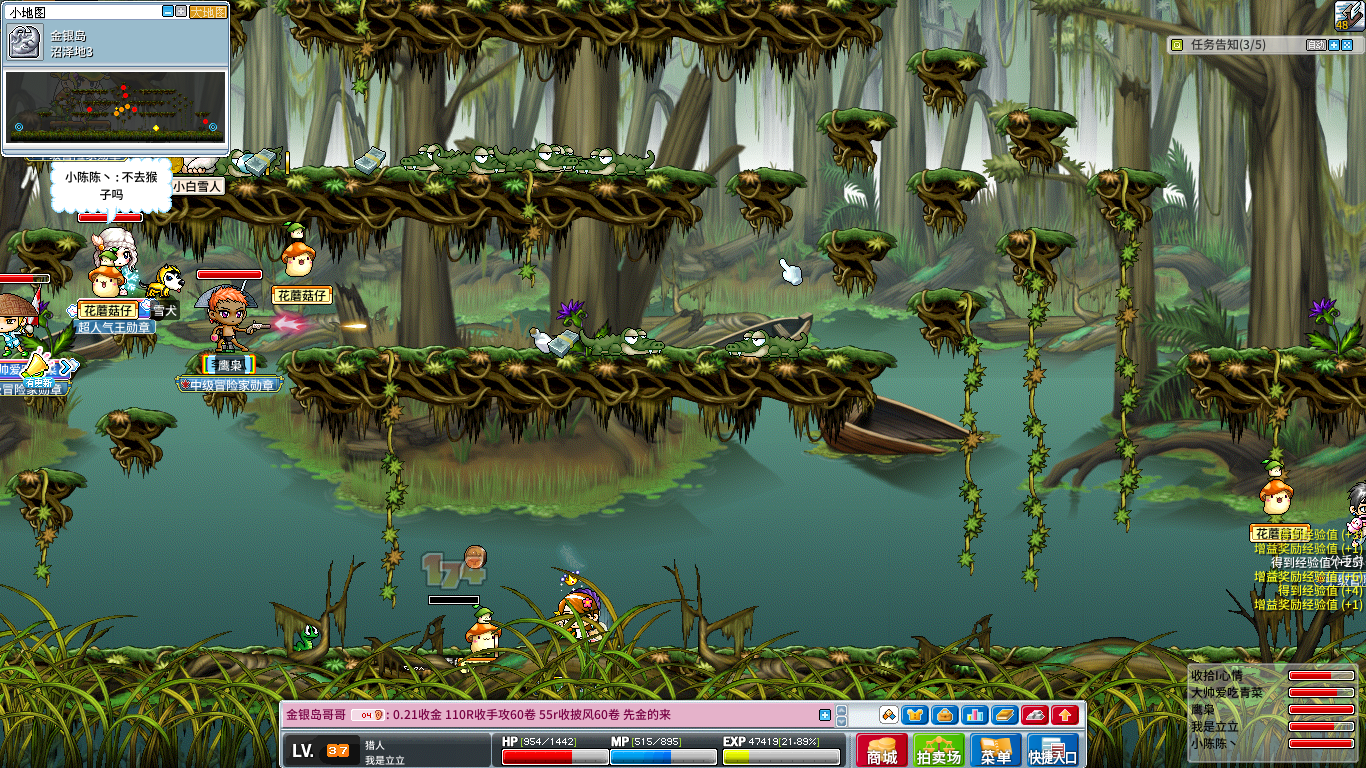monster: (294, 625, 319, 650)
